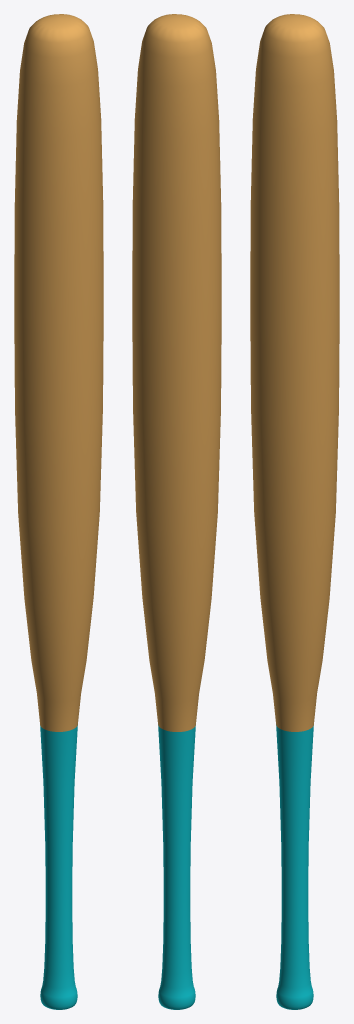
Rendered from FoamBat.fbx.
3 renders of one model, left to right at view 1: azimuth 30°, elevation 25°; view 2: azimuth 150°, elevation 25°; view 3: azimuth 330°, elevation 25°, orthographic.
Parts seen in each view (by area): view 1: pCylinder1; view 2: pCylinder1; view 3: pCylinder1.
Boxes of the visible parts, <box> form: pCylinder1: <box>14,14,103,1009</box>; pCylinder1: <box>132,14,221,1009</box>; pCylinder1: <box>250,14,339,1009</box>.
Size of the model in its own units: 0.7333 by 8.79 by 0.6999.
